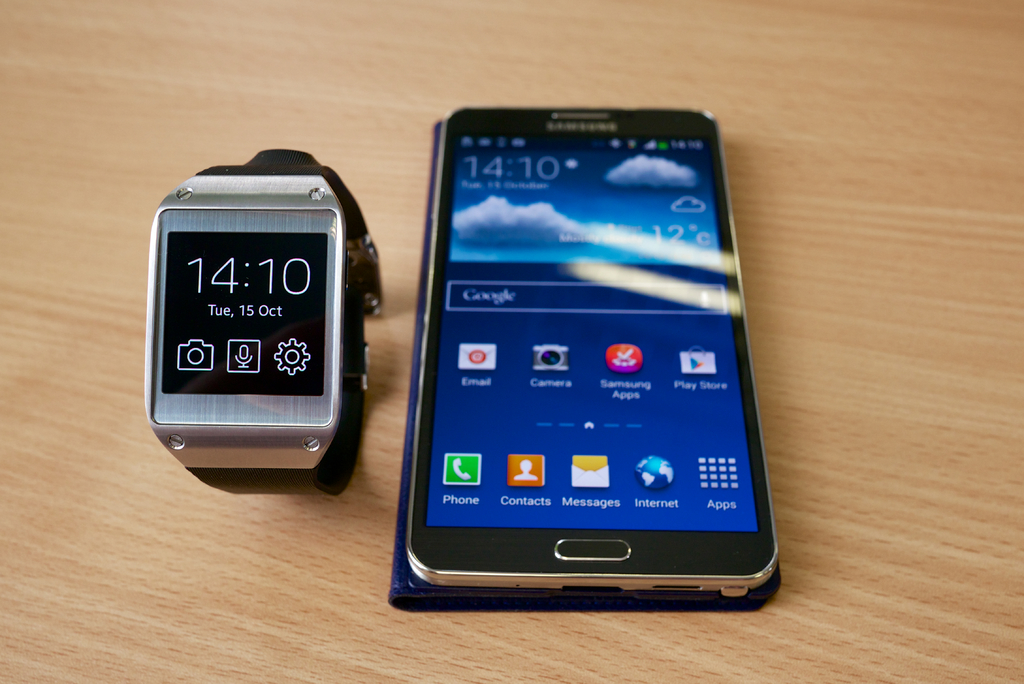watch: (147, 146, 380, 498)
